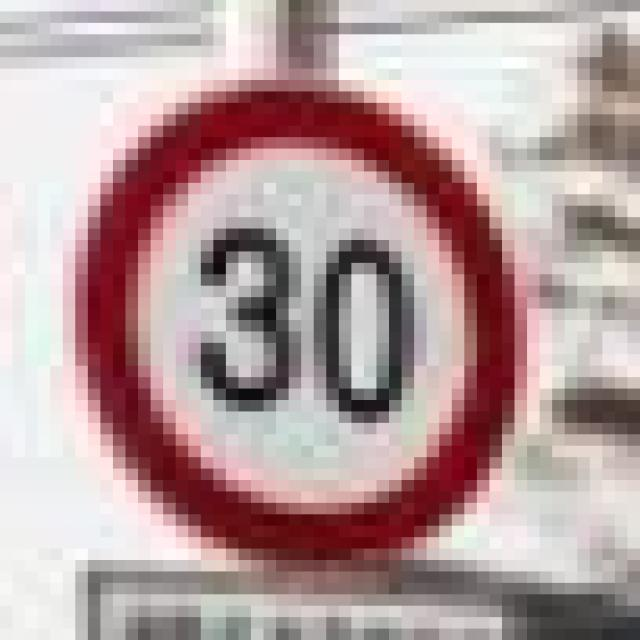speed_limit_30: (62, 69, 514, 560)
